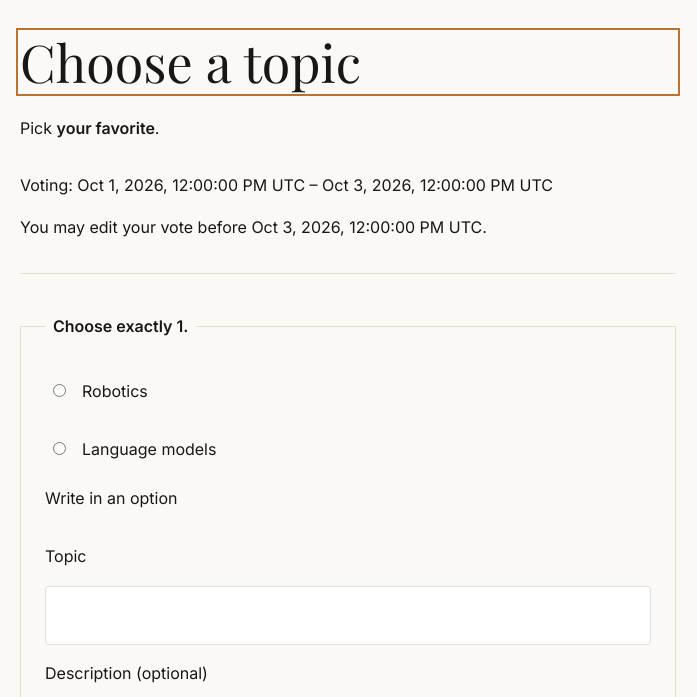
requires a topic when a description is entered, without sending a ballot
The width and height of the screenshot is (697, 697).
Click the radio button labelled "Robotics" at (60, 391), box top-left (53, 384), bottom-right (66, 397)
(page scrolled)
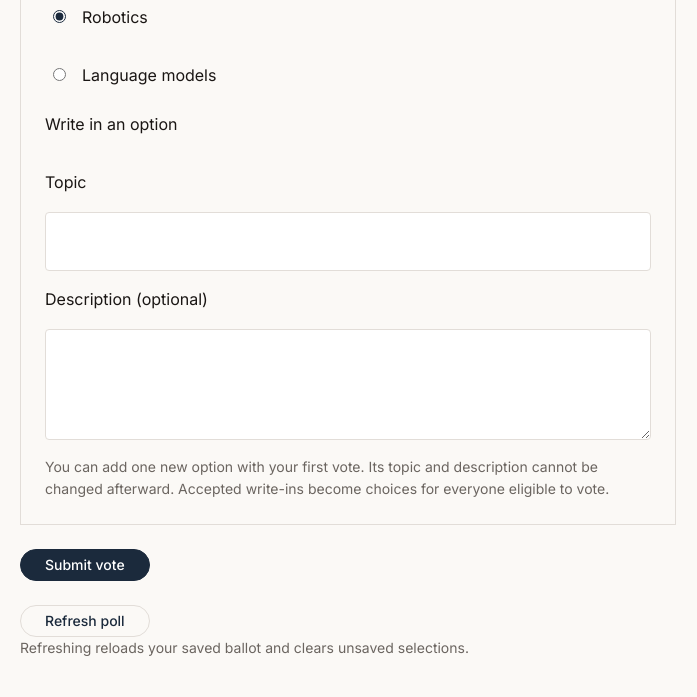
Type "Some details" into the text box labelled "Description (optional)" at (348, 384), box top-left (45, 329), bottom-right (651, 440)
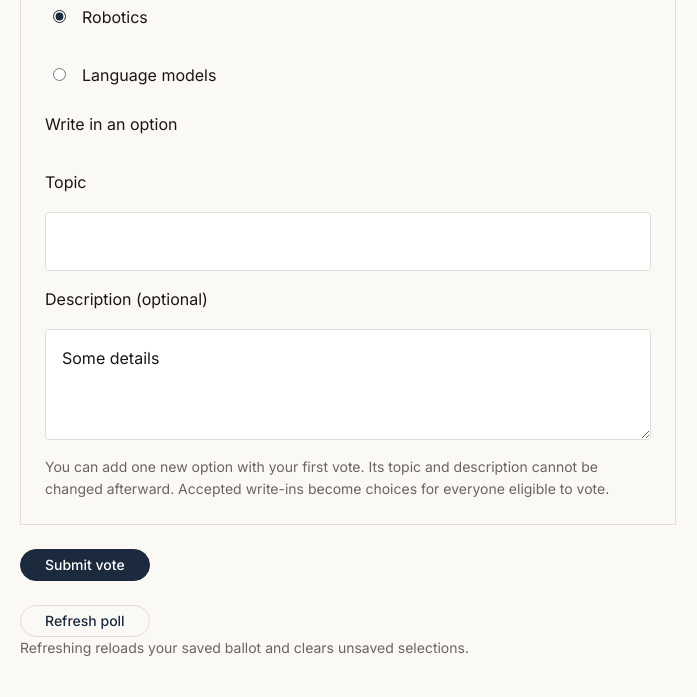
Click the button "Submit vote" at (85, 565), box top-left (20, 549), bottom-right (150, 581)
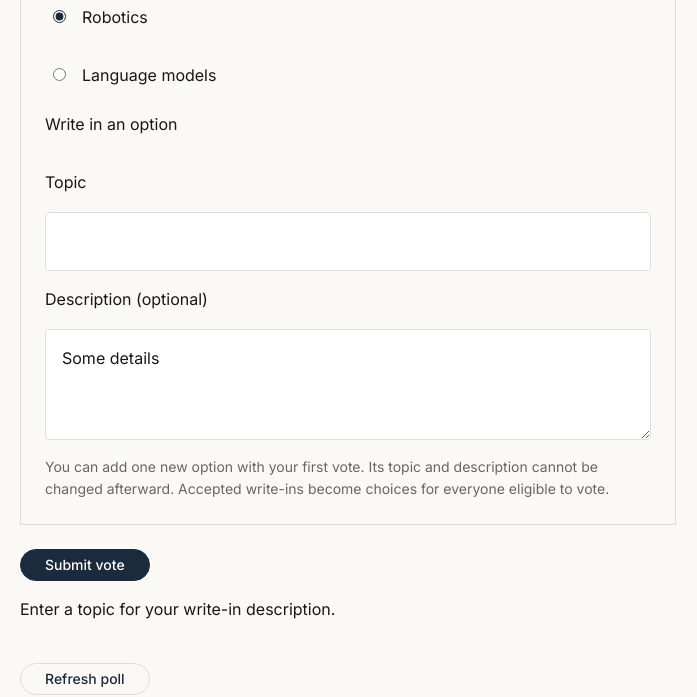
Expected: the text "Enter a topic for your write-in description." is shown, top-left (20, 599), bottom-right (335, 619)
